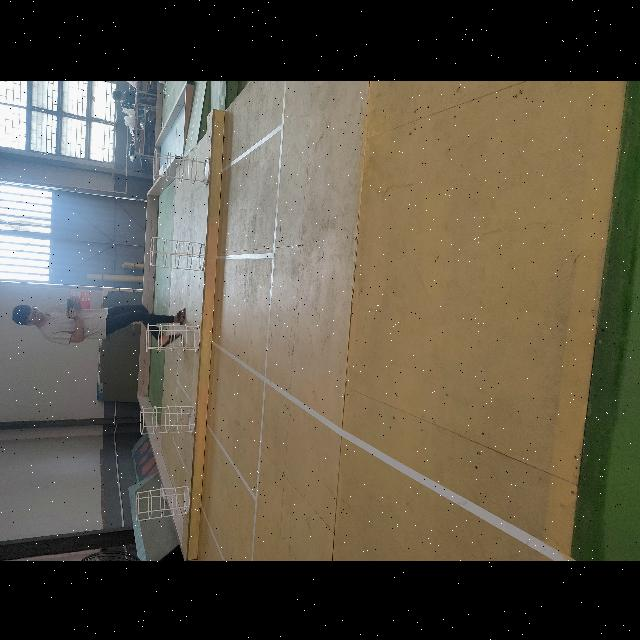S: (152, 147, 212, 187), (133, 484, 191, 521), (149, 235, 207, 272), (144, 321, 201, 353), (138, 404, 196, 435)
